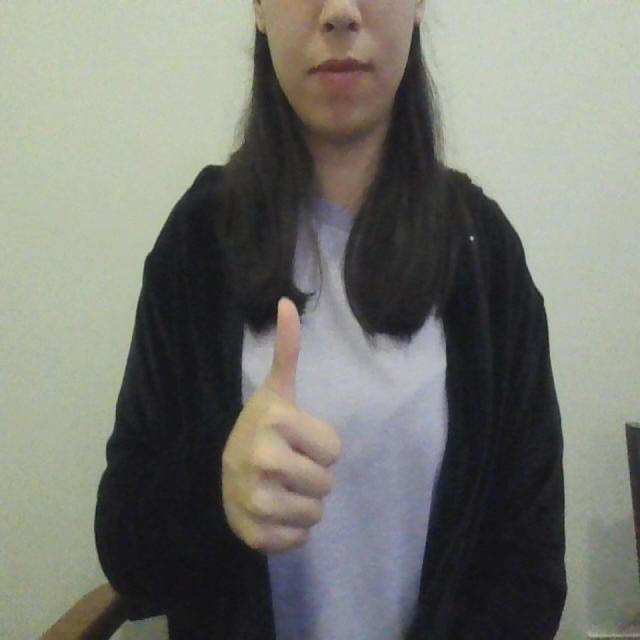Tamam: (212, 285, 344, 572)
